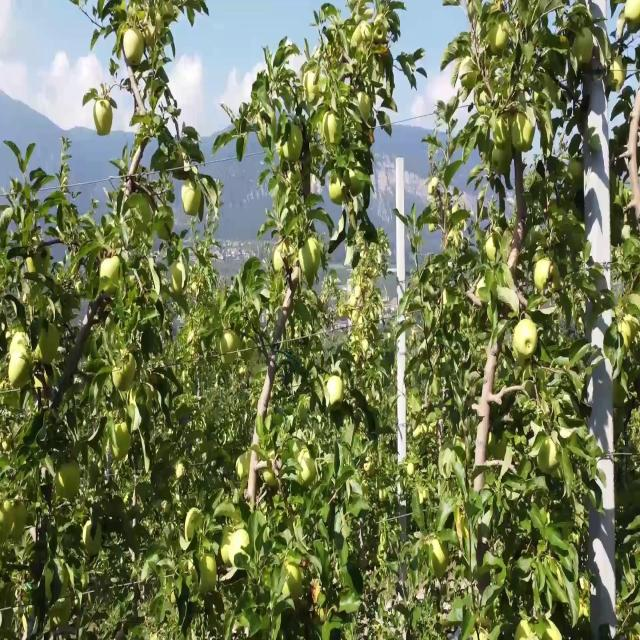apple: (512, 319, 539, 364), (112, 348, 138, 393), (56, 462, 83, 503), (100, 255, 123, 297), (536, 440, 561, 476), (296, 447, 318, 487), (124, 28, 144, 71), (112, 419, 132, 462), (516, 113, 536, 156), (300, 241, 322, 279), (488, 21, 511, 57), (348, 163, 371, 199), (12, 355, 34, 391), (492, 113, 514, 148), (608, 56, 628, 94), (284, 127, 304, 164), (492, 143, 513, 178), (284, 561, 309, 590), (324, 376, 344, 412), (324, 113, 344, 149), (184, 184, 204, 219), (96, 99, 114, 137), (200, 554, 218, 592), (432, 540, 450, 578), (172, 149, 192, 183), (304, 71, 323, 105), (224, 526, 239, 569), (576, 35, 595, 68), (84, 526, 103, 558), (40, 334, 60, 364), (40, 327, 62, 354), (328, 177, 348, 206), (612, 376, 628, 411), (620, 319, 638, 350), (156, 213, 175, 242), (13, 504, 28, 540), (536, 255, 550, 292), (568, 163, 585, 192), (356, 92, 373, 121), (456, 511, 471, 542), (456, 440, 472, 468), (464, 63, 479, 92), (172, 263, 186, 292), (264, 462, 278, 491), (188, 511, 200, 542), (224, 533, 234, 567), (552, 263, 563, 293), (624, 7, 640, 27), (516, 618, 531, 639), (12, 519, 27, 540), (224, 334, 240, 352), (164, 7, 180, 25), (28, 255, 39, 281), (628, 14, 640, 36), (488, 234, 497, 263), (144, 28, 155, 50), (272, 277, 285, 295), (276, 248, 285, 272), (224, 355, 238, 370), (312, 583, 321, 606), (588, 135, 600, 151), (352, 327, 363, 341), (408, 462, 416, 476), (340, 305, 347, 320)
